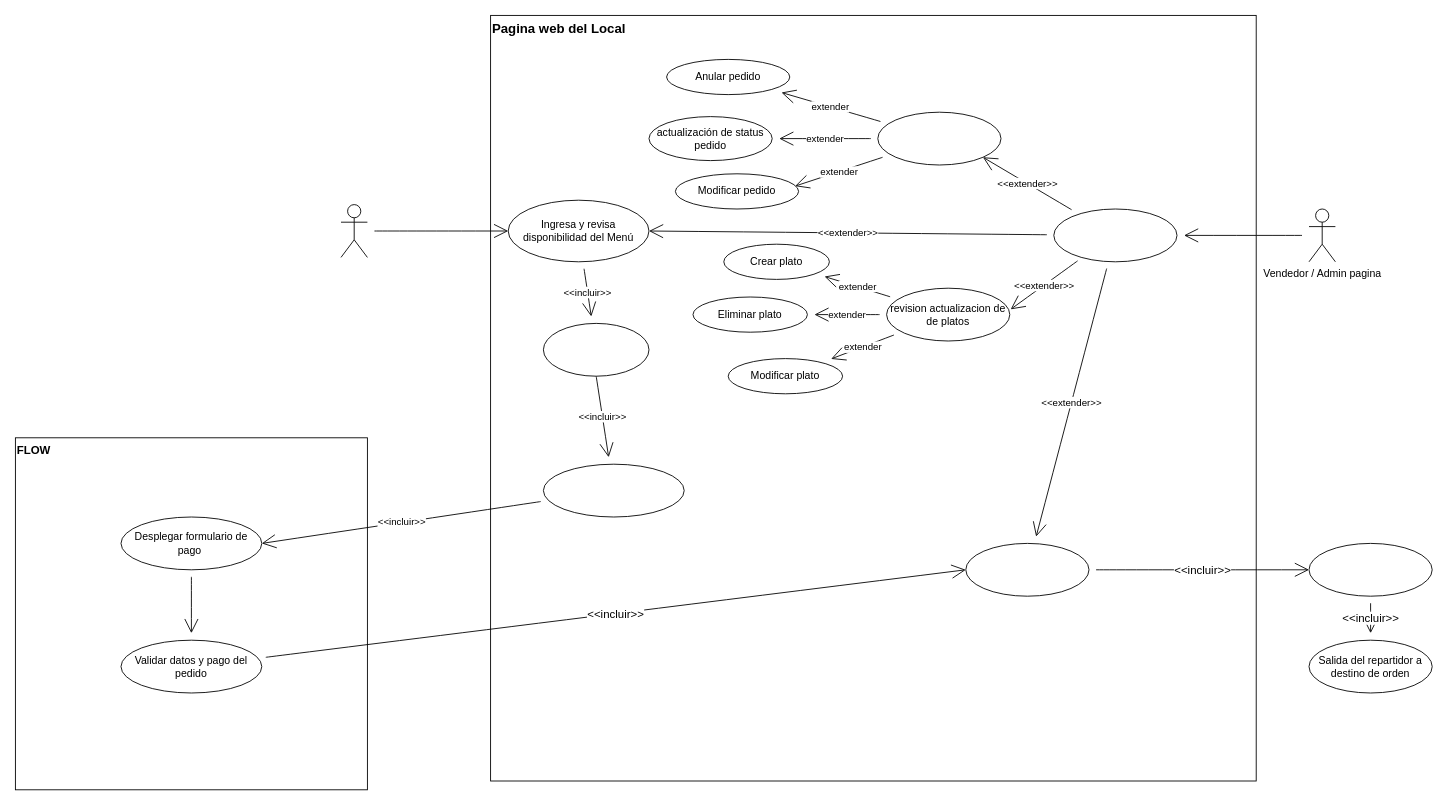
The diagram is 1448 pixels wide and 805 high, and some of its shapes have lost their labels. Each missing label, with the centre of its shape:
"Cliente" belongs at pixel 353 230.
"Desplegar formulario de entrega" belongs at pixel 613 490.
"Ingresa a pagina web con sus credenciales" belongs at pixel 1115 235.
"Notificar a Cocinero para preparar pedido" belongs at pixel 1370 569.
"Recepción de pedidos" belongs at pixel 1027 569.
"revision actualizacion de pedidos" belongs at pixel 939 138.
"selecciona del menú la comida" belongs at pixel 596 349.
